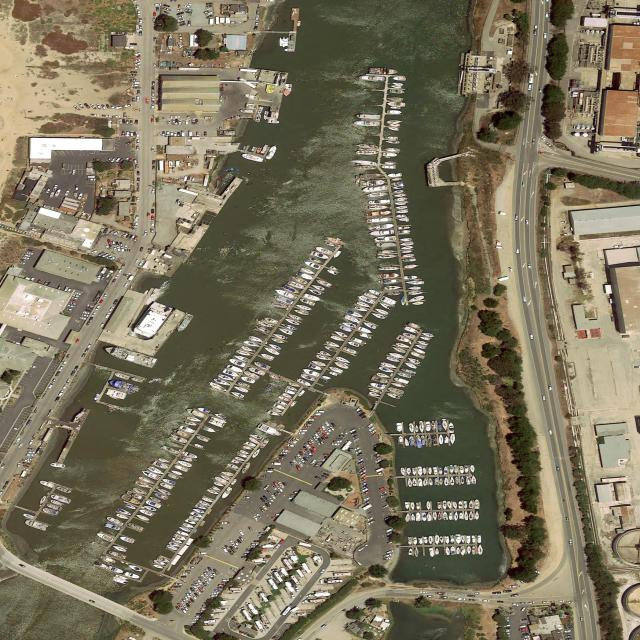ship: (132, 301, 174, 338), (101, 344, 160, 370), (108, 378, 139, 394), (256, 423, 285, 439), (175, 313, 195, 334), (24, 519, 49, 532), (104, 388, 128, 400), (274, 288, 298, 300), (205, 416, 228, 428), (124, 489, 145, 502), (120, 494, 142, 506), (185, 407, 207, 419), (241, 152, 264, 163), (49, 493, 72, 504), (369, 67, 400, 75), (168, 434, 189, 445), (140, 470, 161, 481), (171, 428, 192, 439), (105, 516, 126, 527), (107, 549, 128, 560), (273, 294, 294, 305), (208, 382, 228, 393), (362, 185, 389, 193), (359, 179, 386, 187), (358, 74, 385, 82), (355, 173, 385, 180), (264, 145, 278, 160), (111, 574, 130, 585), (227, 357, 246, 368), (95, 532, 114, 543), (303, 292, 322, 303), (364, 210, 393, 217), (247, 366, 267, 376), (310, 251, 330, 261), (301, 367, 321, 377), (366, 217, 394, 224), (353, 120, 381, 127), (389, 345, 408, 355), (127, 522, 146, 532), (232, 353, 251, 363), (357, 295, 376, 305), (303, 260, 322, 270), (282, 285, 301, 295), (253, 361, 272, 371), (280, 322, 299, 332), (380, 296, 398, 306), (147, 466, 165, 476), (135, 480, 153, 490), (144, 499, 162, 509), (217, 373, 235, 383), (243, 370, 261, 380), (200, 425, 218, 435), (315, 278, 333, 288), (326, 236, 344, 246), (315, 246, 333, 256), (296, 271, 314, 281), (291, 275, 309, 285), (288, 280, 306, 290), (243, 340, 262, 349), (179, 425, 196, 435), (227, 364, 244, 374), (343, 314, 360, 324), (239, 462, 252, 475), (220, 487, 234, 499), (370, 229, 394, 236), (350, 159, 377, 165), (380, 361, 398, 370), (371, 376, 389, 385), (162, 446, 180, 455), (175, 459, 193, 468), (151, 461, 169, 470), (213, 378, 231, 387), (107, 566, 125, 575), (126, 564, 144, 573), (113, 372, 131, 381), (41, 507, 59, 516), (271, 301, 289, 310), (294, 303, 312, 312), (263, 347, 281, 356), (182, 451, 199, 460), (138, 476, 155, 485), (222, 369, 239, 378), (105, 523, 122, 532), (235, 349, 252, 358), (307, 256, 324, 265), (257, 320, 274, 329), (247, 335, 264, 344), (293, 308, 310, 317), (307, 363, 324, 372), (335, 356, 352, 365), (332, 361, 349, 370), (327, 365, 344, 374), (300, 373, 317, 382), (295, 378, 312, 387), (356, 114, 381, 120), (387, 387, 405, 395), (213, 476, 229, 485), (173, 464, 189, 473), (132, 487, 148, 496), (152, 492, 168, 501), (134, 513, 150, 522), (117, 508, 133, 517), (233, 385, 249, 394), (240, 375, 256, 384), (186, 415, 202, 424), (39, 480, 55, 489), (407, 295, 425, 303), (348, 310, 364, 319), (341, 320, 357, 329), (357, 326, 373, 335), (300, 267, 316, 276), (263, 316, 279, 325), (325, 340, 341, 349), (284, 318, 300, 327), (277, 327, 293, 336), (282, 83, 292, 97), (375, 223, 395, 230), (368, 199, 391, 205), (366, 192, 389, 198), (356, 150, 379, 156), (403, 326, 420, 334), (409, 351, 426, 359), (388, 351, 405, 359), (378, 366, 395, 374), (393, 377, 410, 385), (396, 371, 413, 379), (400, 367, 417, 375), (138, 509, 155, 517), (124, 572, 141, 580), (45, 503, 62, 511), (172, 533, 187, 542), (143, 504, 158, 513), (362, 321, 377, 330), (311, 283, 326, 292), (177, 545, 189, 556), (377, 254, 399, 260), (357, 144, 379, 150), (407, 322, 423, 330), (396, 336, 412, 344), (395, 342, 411, 350), (376, 372, 392, 380), (370, 382, 386, 390), (390, 381, 406, 389), (177, 525, 193, 533), (161, 477, 177, 485), (158, 482, 174, 490), (156, 488, 172, 496), (119, 536, 135, 544), (111, 545, 127, 553), (56, 486, 72, 494), (363, 292, 379, 300), (374, 307, 390, 315), (370, 312, 386, 320), (299, 298, 315, 306), (351, 337, 367, 345), (333, 330, 349, 338), (311, 359, 327, 367), (197, 499, 211, 508), (375, 236, 396, 242), (259, 438, 270, 449), (251, 448, 262, 459), (279, 36, 290, 47), (406, 357, 421, 365), (386, 356, 401, 364), (403, 362, 418, 370), (167, 540, 182, 548), (179, 455, 194, 463), (230, 391, 245, 399), (115, 513, 130, 521), (50, 499, 65, 507), (367, 288, 382, 296), (356, 301, 371, 309), (339, 325, 354, 333), (358, 332, 373, 340), (307, 288, 322, 296), (255, 325, 270, 333), (288, 313, 303, 321), (330, 335, 345, 343), (343, 347, 358, 355), (260, 352, 275, 360), (271, 337, 286, 345), (385, 392, 402, 399), (170, 537, 184, 545), (176, 530, 190, 538), (184, 518, 198, 526), (194, 503, 208, 511), (200, 496, 214, 504), (206, 488, 220, 496), (267, 373, 281, 381), (195, 435, 209, 443), (157, 457, 171, 465), (124, 503, 138, 511), (277, 395, 291, 403), (267, 410, 281, 418), (197, 406, 211, 414), (94, 561, 108, 569), (378, 302, 392, 310), (319, 350, 333, 358), (315, 354, 329, 362), (273, 332, 287, 340), (368, 205, 390, 210), (354, 165, 376, 170), (171, 555, 181, 566), (380, 279, 402, 284), (420, 331, 435, 338), (412, 347, 427, 354), (220, 470, 235, 477), (407, 291, 428, 296), (354, 306, 369, 313), (248, 437, 261, 445), (273, 403, 286, 411), (157, 556, 170, 564), (38, 495, 48, 505), (376, 242, 396, 247), (332, 250, 342, 260), (416, 339, 430, 346), (402, 332, 416, 339), (367, 387, 381, 394), (165, 544, 179, 551), (226, 463, 240, 470), (249, 433, 263, 440), (184, 420, 198, 427), (237, 381, 251, 388), (153, 559, 167, 566), (103, 557, 117, 564), (323, 345, 337, 352), (268, 343, 282, 350), (50, 462, 66, 468), (404, 280, 423, 285), (378, 249, 397, 254), (387, 102, 406, 107), (415, 435, 422, 448), (182, 522, 195, 529), (188, 515, 201, 522), (190, 511, 203, 518), (192, 507, 205, 514), (212, 481, 225, 488), (219, 474, 232, 481), (244, 441, 257, 448), (170, 469, 183, 476), (167, 473, 180, 480), (148, 496, 161, 503), (288, 382, 301, 389), (286, 385, 299, 392), (131, 377, 144, 384), (347, 341, 360, 348), (241, 346, 254, 353), (387, 172, 402, 178), (260, 145, 270, 154), (384, 285, 402, 290), (378, 267, 400, 271), (278, 76, 286, 87), (382, 273, 399, 278), (369, 391, 381, 398), (284, 389, 296, 396), (167, 35, 173, 49), (326, 269, 338, 276), (324, 241, 336, 248), (297, 389, 306, 398), (289, 400, 298, 409), (414, 344, 427, 350), (243, 93, 256, 99), (22, 513, 35, 519), (211, 485, 222, 492), (277, 400, 288, 407), (272, 407, 283, 414), (402, 258, 417, 263), (404, 264, 419, 269), (431, 421, 437, 433), (419, 336, 431, 342), (419, 421, 425, 433), (185, 538, 194, 546), (54, 188, 62, 197), (242, 445, 254, 451), (234, 456, 246, 462), (193, 443, 205, 449), (442, 421, 449, 431), (394, 205, 408, 210), (394, 197, 408, 202), (393, 193, 407, 198), (329, 265, 339, 272), (383, 152, 397, 157), (449, 422, 455, 433), (450, 433, 456, 444), (237, 453, 248, 459), (282, 393, 293, 399), (153, 564, 164, 570), (391, 82, 404, 87), (230, 478, 238, 486), (384, 148, 400, 152), (387, 97, 403, 101), (396, 423, 403, 432), (255, 114, 262, 123), (407, 478, 413, 488), (432, 436, 438, 446), (442, 500, 448, 510), (474, 499, 480, 509), (417, 466, 423, 476), (425, 422, 431, 432), (408, 423, 414, 433), (456, 534, 462, 544), (381, 165, 396, 169), (214, 413, 226, 418), (403, 275, 418, 279), (385, 140, 400, 144), (387, 120, 402, 124), (387, 110, 402, 114), (390, 90, 405, 94), (395, 210, 409, 214), (383, 161, 397, 165), (257, 106, 264, 114), (93, 393, 100, 401), (387, 292, 401, 296), (400, 246, 414, 250), (397, 226, 411, 230), (400, 242, 414, 246), (421, 435, 426, 446), (239, 450, 250, 455), (321, 375, 332, 380), (428, 477, 434, 486), (453, 465, 459, 474), (437, 422, 443, 431), (404, 513, 410, 522), (443, 512, 449, 521), (432, 512, 438, 521), (450, 546, 456, 555), (428, 536, 434, 545), (263, 111, 269, 120), (391, 190, 404, 194), (240, 109, 253, 113), (402, 254, 415, 258), (408, 286, 421, 290), (393, 77, 406, 81), (398, 230, 411, 234), (412, 477, 417, 487), (450, 476, 455, 486), (471, 475, 476, 485), (464, 464, 469, 474), (449, 465, 454, 475), (438, 435, 443, 445), (422, 512, 427, 522), (464, 511, 469, 521), (409, 436, 414, 446), (414, 547, 419, 557), (478, 545, 483, 555), (401, 296, 406, 306), (48, 191, 55, 198), (77, 193, 84, 200), (452, 501, 458, 509), (428, 435, 432, 447), (394, 202, 406, 206), (407, 537, 413, 545), (268, 120, 280, 124), (284, 48, 296, 52), (388, 127, 400, 131), (388, 123, 400, 127), (390, 85, 402, 89), (418, 478, 423, 487), (423, 477, 428, 486), (444, 477, 449, 486), (465, 476, 470, 485), (416, 512, 421, 521), (426, 501, 431, 510), (447, 501, 452, 510), (475, 511, 480, 520), (404, 437, 409, 446), (398, 436, 403, 445), (410, 502, 415, 511), (429, 548, 434, 557), (329, 371, 338, 376), (398, 218, 409, 222), (395, 214, 406, 218), (461, 546, 465, 557), (401, 250, 412, 254), (296, 20, 302, 27), (256, 147, 262, 154), (399, 238, 413, 241), (433, 467, 438, 475), (454, 476, 459, 484), (470, 465, 475, 473), (460, 466, 465, 474), (427, 512, 431, 522), (469, 511, 473, 521), (459, 512, 464, 520), (454, 511, 458, 521), (437, 512, 442, 520), (401, 468, 406, 476), (412, 468, 417, 476), (135, 24, 140, 32), (446, 546, 450, 556), (471, 546, 476, 554), (477, 535, 482, 543), (445, 536, 450, 544), (435, 535, 439, 545), (413, 538, 418, 546), (230, 460, 240, 464), (444, 466, 448, 475), (469, 500, 473, 509), (392, 186, 404, 189), (467, 546, 471, 555), (412, 302, 424, 305), (64, 190, 70, 196), (437, 502, 442, 509), (408, 548, 413, 555), (418, 538, 423, 545), (391, 178, 402, 181), (387, 136, 398, 139), (439, 477, 443, 485), (461, 476, 465, 484), (445, 436, 449, 444), (439, 467, 443, 475), (428, 467, 432, 475), (423, 467, 427, 475), (411, 513, 415, 521), (458, 501, 462, 509), (464, 501, 468, 509), (449, 512, 453, 520), (415, 425, 419, 433), (405, 502, 409, 510), (467, 536, 471, 544), (461, 535, 465, 543), (450, 535, 454, 543), (440, 536, 444, 544), (242, 145, 248, 150), (251, 146, 256, 152), (391, 106, 401, 109), (434, 478, 438, 485), (416, 503, 420, 510), (407, 468, 411, 475), (435, 548, 439, 555), (472, 536, 476, 543), (424, 537, 428, 544), (457, 547, 460, 554)
small-vehicle: (190, 583, 199, 591), (367, 519, 376, 526), (309, 459, 317, 466), (317, 438, 325, 445), (321, 432, 329, 439), (263, 484, 271, 491), (252, 515, 260, 522), (230, 546, 238, 553), (212, 568, 220, 575), (186, 588, 194, 595), (292, 585, 300, 592), (77, 102, 85, 109), (83, 102, 91, 109), (356, 546, 365, 552), (362, 490, 371, 496), (385, 528, 395, 533), (382, 553, 392, 558), (278, 482, 285, 489), (227, 549, 234, 556), (185, 592, 192, 599), (289, 592, 296, 599), (45, 187, 52, 194), (90, 103, 97, 110), (307, 450, 313, 458), (355, 406, 363, 412), (359, 469, 367, 475), (368, 426, 376, 432), (237, 530, 245, 536), (193, 581, 201, 587), (278, 539, 286, 545), (73, 105, 81, 111), (163, 7, 172, 12), (349, 428, 358, 433), (366, 517, 375, 522), (511, 602, 520, 607), (300, 459, 307, 465), (330, 422, 337, 428), (371, 432, 378, 438), (304, 443, 311, 449), (324, 421, 331, 427), (259, 507, 266, 513), (221, 547, 228, 553), (232, 544, 239, 550), (238, 536, 245, 542), (181, 608, 188, 614), (267, 573, 274, 579), (52, 185, 59, 191), (96, 103, 102, 110), (546, 142, 553, 148), (507, 266, 514, 272), (163, 10, 171, 15), (351, 431, 359, 436), (353, 437, 361, 442), (380, 494, 388, 499), (364, 500, 372, 505), (314, 475, 322, 480), (357, 461, 365, 466), (382, 504, 390, 509), (361, 484, 369, 489), (230, 567, 238, 572), (98, 251, 106, 256), (89, 113, 99, 117), (205, 14, 213, 19), (205, 11, 213, 16), (101, 114, 111, 118), (88, 599, 96, 604), (18, 563, 26, 568), (85, 306, 93, 311), (177, 42, 183, 48), (295, 465, 301, 471), (298, 461, 304, 467), (309, 448, 315, 454), (311, 445, 317, 451), (320, 436, 326, 442), (300, 448, 306, 454), (278, 487, 284, 493), (309, 438, 315, 444), (314, 433, 320, 439), (318, 427, 324, 433), (271, 484, 277, 490), (256, 513, 262, 519), (262, 505, 268, 511), (266, 500, 272, 506), (269, 497, 275, 503), (183, 605, 189, 611), (185, 602, 191, 608), (187, 600, 193, 606), (191, 595, 197, 601), (198, 587, 204, 593), (204, 579, 210, 585), (206, 576, 212, 582), (209, 574, 215, 580), (177, 602, 183, 608), (180, 601, 186, 607), (184, 595, 190, 601), (197, 579, 203, 585), (198, 576, 204, 582), (183, 572, 192, 576), (286, 549, 295, 553), (274, 544, 280, 550), (103, 228, 109, 234), (115, 157, 121, 163), (0, 463, 6, 469), (114, 273, 120, 279), (514, 584, 523, 588), (518, 578, 524, 584), (57, 284, 63, 290), (26, 419, 32, 425), (66, 378, 72, 384), (48, 383, 54, 389), (70, 370, 76, 376), (99, 322, 105, 328), (109, 306, 115, 312), (329, 426, 336, 431), (360, 473, 367, 478), (359, 466, 366, 471), (356, 452, 363, 457), (354, 446, 361, 451), (366, 424, 373, 429), (359, 412, 366, 417), (357, 409, 364, 414), (247, 526, 254, 531), (264, 503, 271, 508), (224, 545, 231, 550), (201, 584, 206, 591), (362, 487, 369, 492), (259, 629, 266, 634), (102, 253, 109, 258), (121, 233, 128, 238), (129, 235, 136, 240), (125, 141, 132, 146), (106, 254, 113, 259), (69, 301, 76, 306), (117, 268, 124, 273), (85, 308, 92, 313), (105, 312, 110, 319), (271, 462, 282, 465), (184, 5, 192, 9), (185, 8, 193, 12), (176, 15, 184, 19), (176, 12, 184, 16), (163, 4, 171, 8), (134, 62, 142, 66), (134, 58, 142, 62), (379, 487, 387, 491), (374, 459, 382, 463), (383, 557, 391, 561), (386, 550, 394, 554), (564, 629, 572, 633), (565, 623, 573, 627), (238, 606, 246, 610), (109, 256, 117, 260), (91, 250, 99, 254), (116, 105, 124, 109), (21, 467, 29, 471), (22, 459, 30, 463), (511, 594, 519, 598), (534, 570, 542, 574), (67, 304, 75, 308), (70, 299, 78, 303), (18, 261, 26, 265), (87, 304, 95, 308), (83, 311, 91, 315), (135, 4, 140, 10), (352, 434, 358, 439), (330, 443, 340, 446), (314, 462, 319, 468), (304, 454, 310, 459), (316, 440, 321, 446), (324, 430, 330, 435), (326, 428, 332, 433), (289, 461, 295, 466), (357, 458, 363, 463), (361, 415, 367, 420), (296, 454, 302, 459), (298, 451, 304, 456), (302, 446, 308, 451), (274, 482, 279, 488), (307, 441, 313, 446), (312, 436, 318, 441), (315, 430, 321, 435), (321, 425, 326, 431), (260, 498, 266, 503), (263, 495, 268, 501), (267, 490, 273, 495), (270, 495, 276, 500), (275, 490, 281, 495), (234, 541, 240, 546), (236, 539, 242, 544), (189, 598, 195, 603), (194, 593, 200, 598), (202, 582, 208, 587), (203, 572, 209, 577), (205, 569, 211, 574), (207, 567, 213, 572), (211, 572, 217, 577), (229, 539, 234, 545), (175, 605, 180, 611), (190, 587, 195, 593), (200, 574, 206, 579), (319, 569, 325, 574), (341, 608, 347, 613), (321, 623, 327, 628), (264, 625, 270, 630), (151, 188, 156, 194), (170, 116, 180, 119), (138, 261, 144, 266), (134, 258, 140, 263), (111, 240, 116, 246), (133, 236, 139, 241), (133, 223, 138, 229), (100, 104, 106, 109), (111, 115, 121, 118), (127, 158, 133, 163), (110, 158, 116, 163), (520, 607, 526, 612), (541, 136, 547, 141), (560, 233, 570, 236), (502, 590, 512, 593), (568, 539, 573, 545), (522, 297, 527, 303), (28, 440, 34, 445), (17, 443, 23, 448), (15, 437, 21, 442), (95, 306, 101, 311), (36, 279, 42, 284), (54, 397, 60, 402), (58, 391, 64, 396), (55, 371, 60, 377), (73, 365, 78, 371), (61, 361, 67, 366), (113, 299, 118, 305), (88, 317, 94, 322), (135, 52, 142, 56), (179, 23, 186, 27), (134, 66, 141, 70), (380, 491, 387, 495), (363, 497, 370, 501), (321, 475, 328, 479), (323, 473, 330, 477), (377, 471, 384, 475), (528, 601, 535, 605), (360, 482, 367, 486), (188, 130, 192, 137), (181, 130, 185, 137), (113, 231, 120, 235), (125, 104, 132, 108), (203, 10, 210, 14), (13, 427, 20, 431), (73, 294, 80, 298), (22, 256, 29, 260), (28, 249, 35, 253), (30, 365, 37, 369), (82, 314, 89, 318), (333, 440, 342, 443), (265, 470, 274, 473), (282, 449, 291, 452), (304, 423, 313, 426), (323, 453, 332, 456), (518, 628, 527, 631), (502, 632, 511, 635), (198, 552, 207, 555), (186, 156, 195, 159), (87, 178, 96, 181), (495, 246, 504, 249), (467, 594, 476, 597), (303, 457, 308, 462), (292, 459, 297, 464), (294, 456, 299, 461), (282, 482, 287, 487), (273, 492, 278, 497), (197, 590, 202, 595), (182, 599, 187, 604), (139, 247, 144, 252), (120, 247, 125, 252), (108, 244, 113, 249), (106, 104, 111, 109), (253, 26, 258, 31), (255, 15, 260, 20), (124, 157, 129, 162), (133, 159, 138, 164), (106, 158, 111, 163), (106, 273, 111, 278), (2, 485, 7, 490), (565, 517, 570, 522), (548, 430, 553, 435), (91, 312, 96, 317), (99, 299, 104, 304), (103, 293, 108, 298), (124, 282, 129, 287), (97, 274, 102, 279), (100, 275, 105, 280), (63, 384, 68, 389), (51, 378, 56, 383), (81, 353, 86, 358), (84, 348, 89, 353), (87, 343, 92, 348), (86, 321, 91, 326), (185, 11, 193, 14), (336, 437, 344, 440), (360, 479, 366, 483), (356, 450, 362, 454), (300, 429, 308, 432), (309, 418, 317, 421), (317, 410, 325, 413), (580, 616, 584, 622), (566, 601, 574, 604), (220, 84, 228, 87), (290, 494, 298, 497), (169, 589, 177, 592), (522, 635, 530, 638), (564, 635, 572, 638), (566, 626, 574, 629), (194, 615, 202, 618), (208, 538, 216, 541), (191, 119, 195, 125), (184, 119, 188, 125), (175, 119, 179, 125), (171, 119, 175, 125), (87, 175, 95, 178), (109, 230, 115, 234), (145, 98, 149, 104), (151, 91, 155, 97), (123, 112, 127, 118), (152, 159, 156, 165), (533, 30, 537, 36), (545, 12, 549, 18), (22, 465, 30, 468), (22, 462, 30, 465), (25, 458, 33, 461), (427, 595, 435, 598), (548, 385, 552, 391), (71, 297, 79, 300), (74, 292, 82, 295), (26, 252, 34, 255), (111, 279, 117, 283), (79, 317, 87, 320), (154, 3, 161, 6), (179, 21, 186, 24), (178, 18, 185, 21), (132, 84, 139, 87), (131, 74, 138, 77), (135, 55, 142, 58), (206, 2, 213, 5), (186, 3, 193, 6), (206, 5, 213, 8), (341, 432, 348, 435), (261, 475, 268, 478), (268, 467, 275, 470), (277, 457, 284, 460), (285, 446, 292, 449), (288, 444, 295, 447), (217, 527, 224, 530), (223, 579, 230, 582), (275, 513, 282, 516), (288, 497, 295, 500), (293, 491, 300, 494), (176, 583, 183, 586), (271, 568, 278, 571), (522, 633, 529, 636), (520, 618, 527, 621), (193, 618, 200, 621), (199, 610, 206, 613), (244, 553, 251, 556), (542, 601, 549, 604), (244, 31, 251, 34), (560, 221, 567, 224), (538, 152, 545, 155), (528, 84, 531, 91), (26, 454, 33, 457), (27, 448, 34, 451), (497, 600, 504, 603), (483, 599, 490, 602), (474, 592, 481, 595), (66, 308, 73, 311), (21, 259, 28, 262), (24, 254, 31, 257), (153, 37, 157, 42), (156, 7, 160, 12), (139, 25, 143, 30), (139, 18, 143, 23), (137, 11, 141, 16), (187, 21, 191, 26), (361, 476, 366, 480), (371, 430, 376, 434), (255, 586, 260, 590), (173, 132, 177, 137), (166, 131, 170, 136), (162, 131, 166, 136), (178, 120, 182, 125), (135, 215, 139, 220), (117, 247, 121, 252), (115, 241, 119, 246), (113, 246, 117, 251), (105, 243, 109, 248), (107, 239, 111, 244), (150, 228, 154, 233), (110, 105, 115, 109), (151, 104, 155, 109), (151, 97, 155, 102), (151, 86, 155, 91), (255, 21, 259, 26), (256, 9, 260, 14), (119, 158, 124, 162), (136, 139, 140, 144), (134, 120, 139, 124), (129, 120, 133, 125), (522, 182, 526, 187), (556, 467, 560, 472), (542, 396, 546, 401), (530, 334, 534, 339), (47, 282, 51, 287), (43, 281, 48, 285), (59, 366, 63, 371), (75, 339, 80, 343), (163, 52, 172, 54), (153, 62, 156, 68), (133, 87, 142, 89), (244, 496, 250, 499), (299, 432, 305, 435), (303, 426, 309, 429), (501, 630, 510, 632), (241, 556, 250, 558), (257, 535, 266, 537), (135, 164, 138, 170), (130, 131, 133, 137), (204, 117, 213, 119), (526, 219, 529, 225), (544, 33, 547, 39), (469, 599, 475, 602), (492, 592, 501, 594), (123, 274, 129, 277), (177, 4, 181, 8), (137, 91, 141, 95), (130, 71, 138, 73), (222, 522, 230, 524), (219, 584, 227, 586), (212, 592, 220, 594), (217, 587, 225, 589), (173, 586, 181, 588), (184, 570, 192, 572), (196, 613, 204, 615), (201, 608, 209, 610), (167, 593, 175, 595), (187, 567, 195, 569), (251, 543, 259, 545), (254, 540, 262, 542), (222, 608, 230, 610), (124, 245, 128, 249), (119, 242, 123, 246), (136, 183, 140, 187), (136, 178, 140, 182), (72, 170, 76, 174), (5, 481, 9, 485), (17, 463, 21, 467), (27, 451, 35, 453), (420, 591, 428, 593), (435, 592, 443, 594), (66, 354, 70, 358), (153, 17, 156, 22), (196, 132, 199, 137), (177, 132, 180, 137), (170, 131, 173, 136), (195, 119, 198, 124), (168, 120, 171, 125), (75, 185, 78, 190), (136, 197, 139, 202), (151, 209, 154, 214), (147, 212, 150, 217), (144, 231, 147, 236), (137, 171, 140, 176), (152, 165, 155, 170), (151, 147, 154, 152), (69, 169, 72, 174), (136, 134, 139, 139), (126, 131, 129, 136), (122, 131, 125, 136), (151, 118, 154, 123), (122, 119, 125, 124), (515, 215, 518, 220), (532, 139, 535, 144), (539, 87, 542, 92), (516, 249, 519, 254), (528, 263, 531, 268), (130, 43, 137, 45), (177, 9, 184, 11), (131, 79, 138, 81), (339, 435, 346, 437), (275, 460, 282, 462), (279, 455, 286, 457), (306, 421, 313, 423), (311, 416, 318, 418), (314, 413, 321, 415), (221, 582, 228, 584), (271, 517, 278, 519), (321, 459, 328, 461), (210, 595, 217, 597), (215, 590, 222, 592), (521, 631, 528, 633), (180, 576, 187, 578), (190, 621, 197, 623), (202, 605, 209, 607), (246, 551, 253, 553), (249, 546, 256, 548), (259, 532, 266, 534), (520, 602, 527, 604), (458, 598, 465, 600), (509, 586, 516, 588), (153, 12, 156, 16), (139, 31, 142, 35), (281, 452, 287, 454), (551, 601, 557, 603), (262, 561, 268, 563), (205, 8, 211, 10), (204, 132, 207, 136), (137, 188, 140, 192), (153, 181, 156, 185), (151, 222, 154, 226), (151, 216, 154, 220), (132, 98, 135, 102), (137, 96, 139, 102), (136, 146, 139, 150), (119, 120, 122, 124), (126, 120, 129, 124), (443, 597, 449, 599), (559, 600, 564, 602), (131, 203, 136, 205), (134, 131, 136, 136), (170, 1, 178, 2), (152, 81, 154, 85)
storage-tank: (573, 133, 581, 137), (582, 133, 589, 137)
